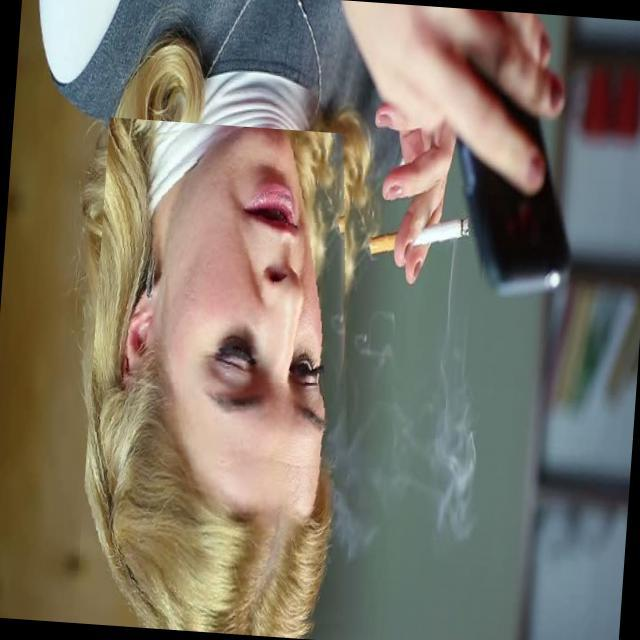cigarette: (359, 174, 488, 299)
